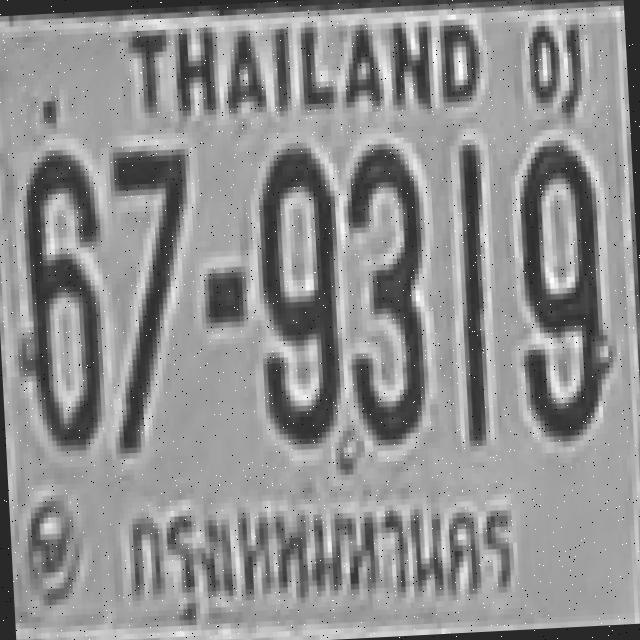1: (452, 142, 491, 394)
3: (338, 136, 430, 442)
6: (12, 148, 107, 448)
7: (102, 144, 201, 467), (109, 144, 194, 338), (108, 141, 194, 314)
9: (509, 139, 604, 438), (248, 144, 343, 443), (251, 168, 341, 440)
Bangkok: (101, 467, 548, 640), (103, 464, 528, 640)
